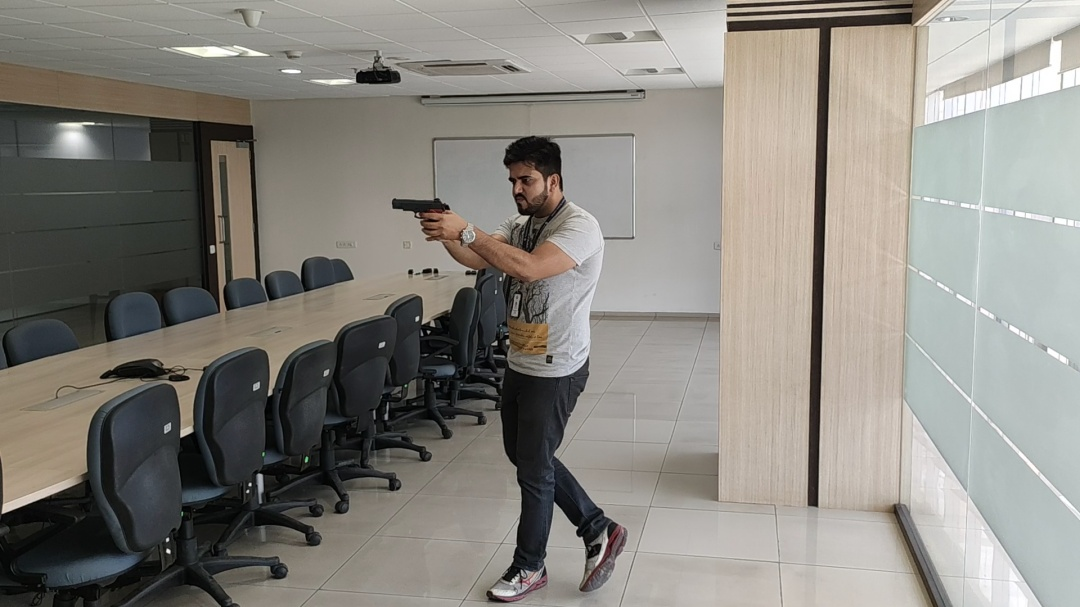gun: (386, 190, 456, 217)
